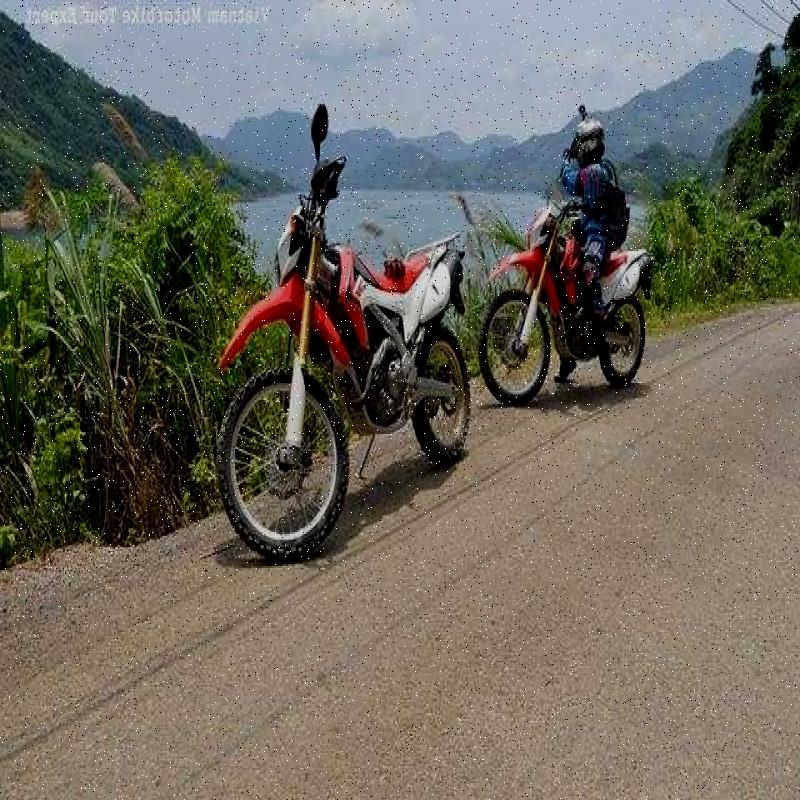bike: (201, 78, 474, 585), (473, 193, 670, 412)
